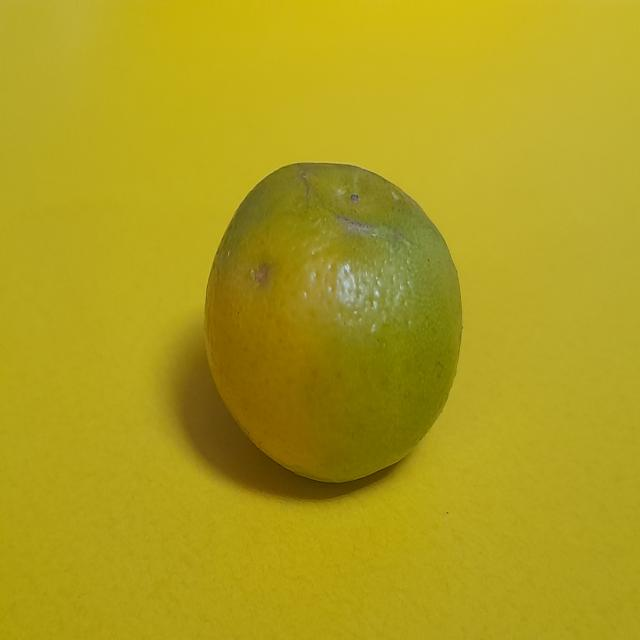greening: (197, 154, 461, 484)
